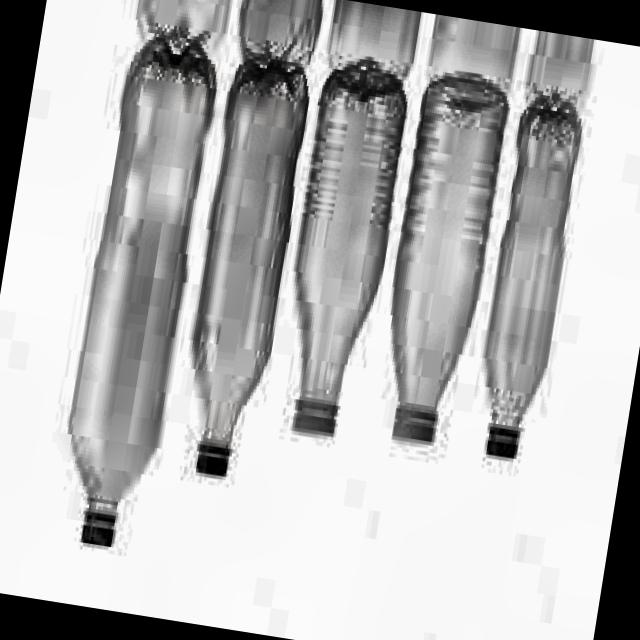plastic bottle: (70, 42, 215, 548), (194, 65, 307, 474), (392, 78, 507, 442), (296, 68, 406, 434), (485, 106, 580, 459)
